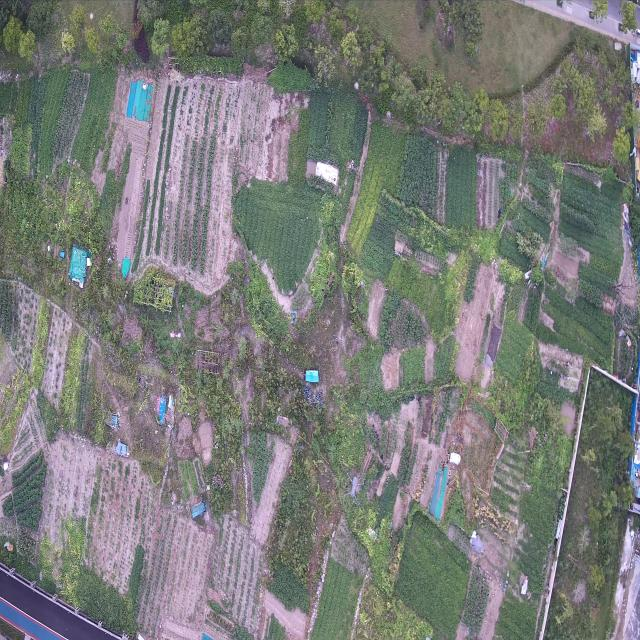UAV: (342, 470, 364, 509)
